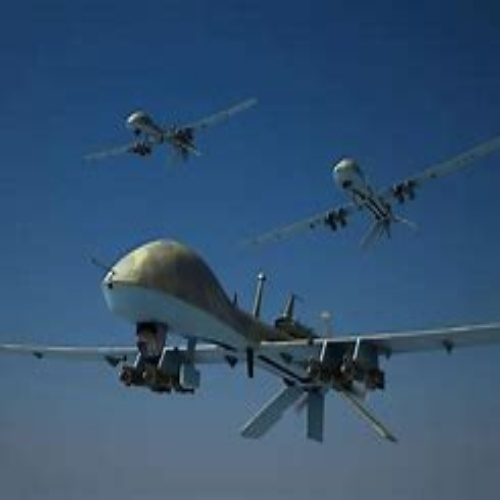uav: (7, 238, 496, 446), (256, 150, 489, 245), (79, 87, 254, 165)
